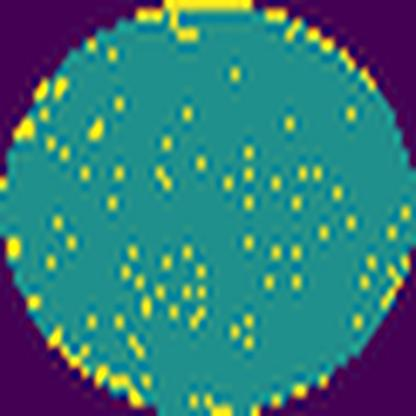Edge-Loc: (133, 0, 262, 50)
